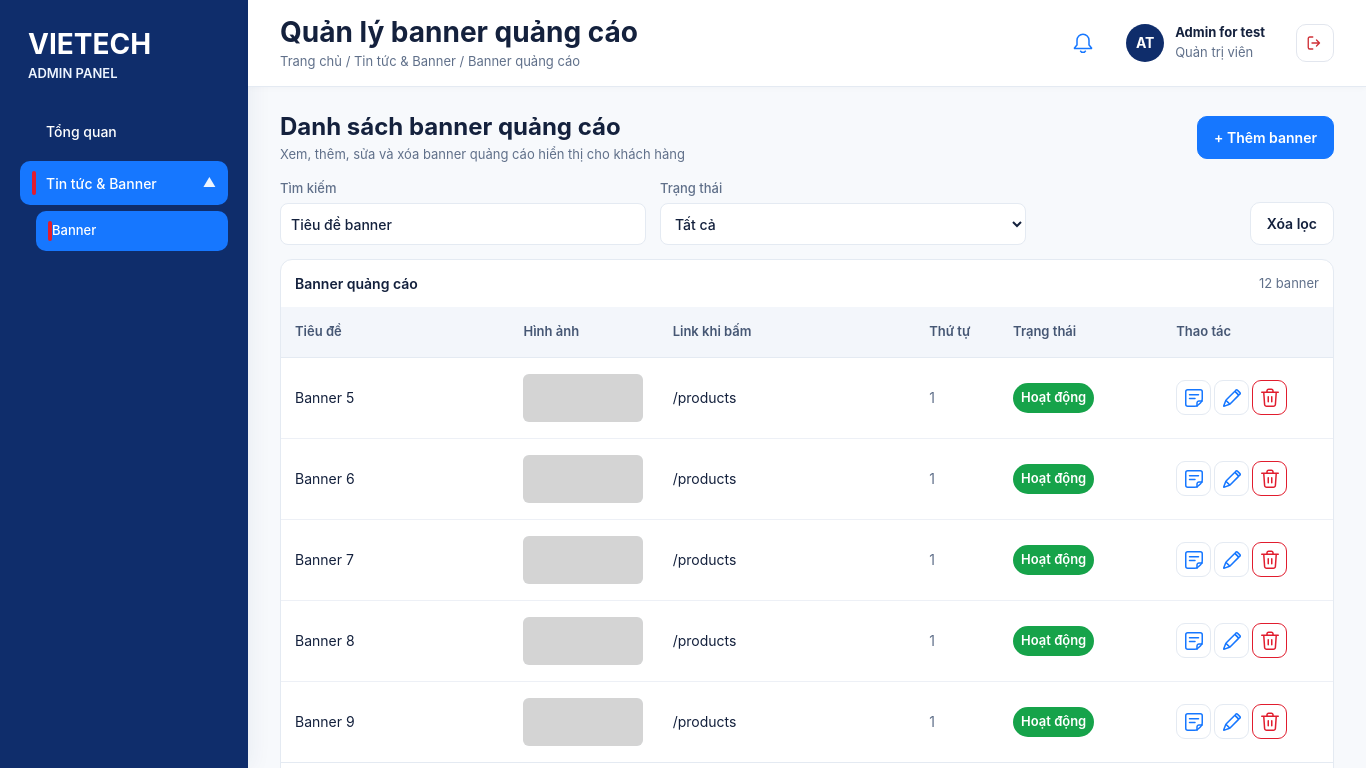
Test: search and status automatically filter the full array and reset pagination
Type "MỤC CẦN TÌM" into the search field at (463, 224), box [280, 203, 646, 245]
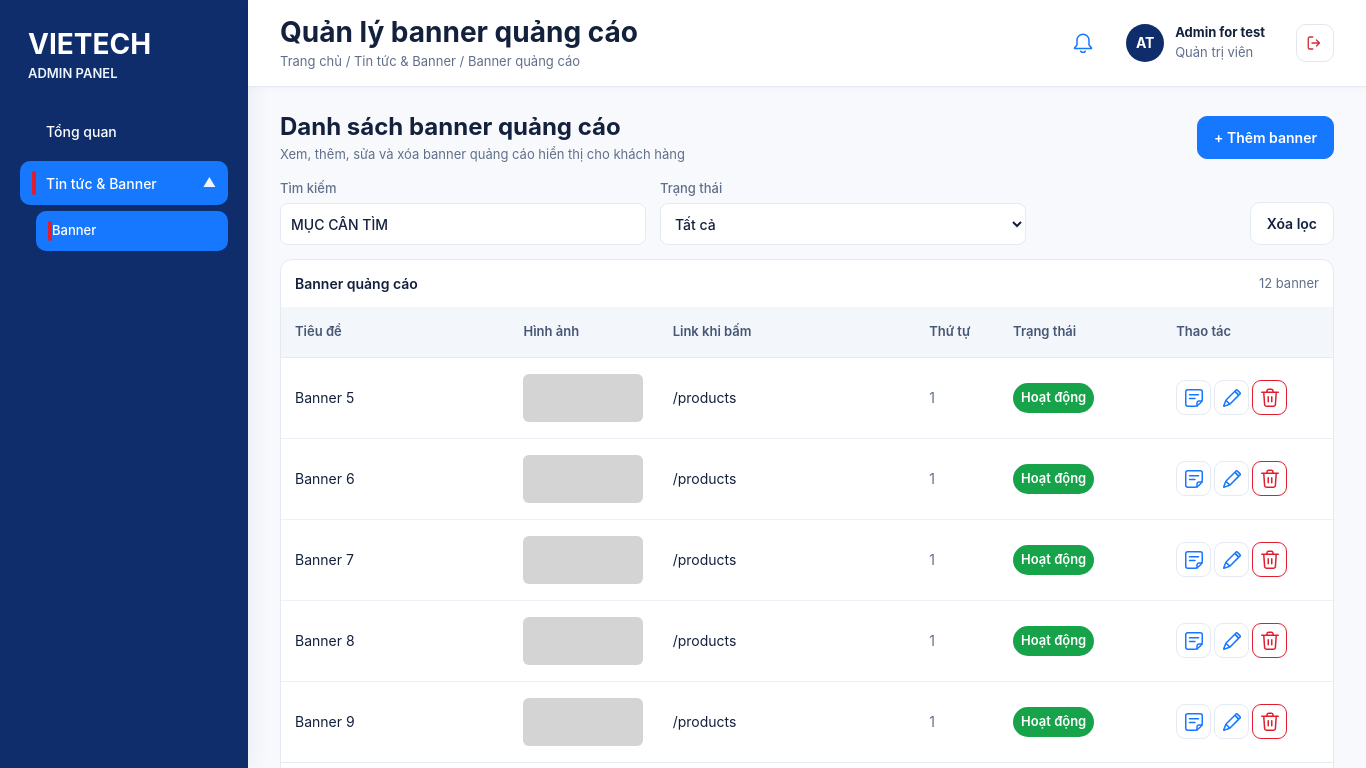
Select "Ngừng hoạt động" in the dropdown at (843, 224), box [660, 203, 1026, 245]
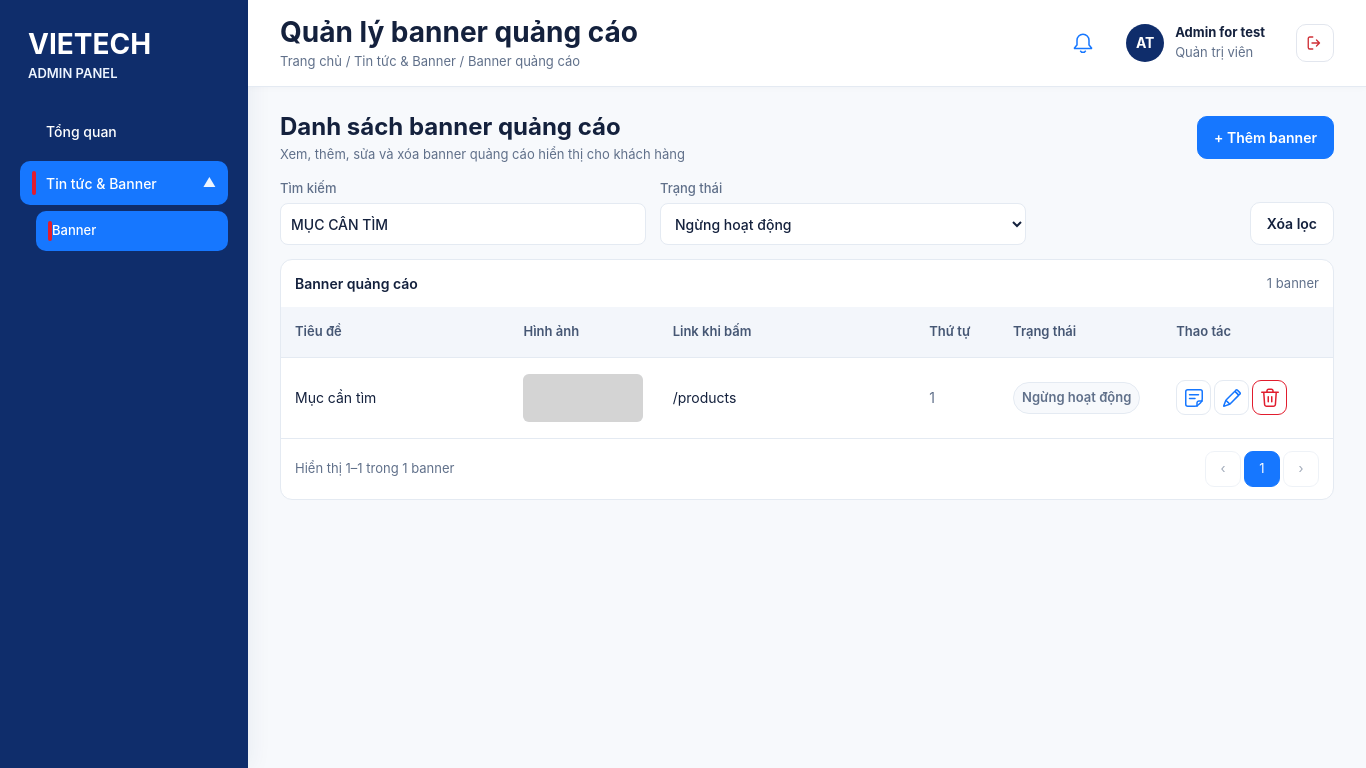
Expected: the button named "Xem Mục cần tìm" is shown, [1176, 380, 1211, 415]
Result: the text "Hiển thị 1–1 trong 1 banner" is shown at [295, 459, 454, 478]
Click the button "Xóa lọc" at (1292, 224), box [1250, 202, 1334, 245]
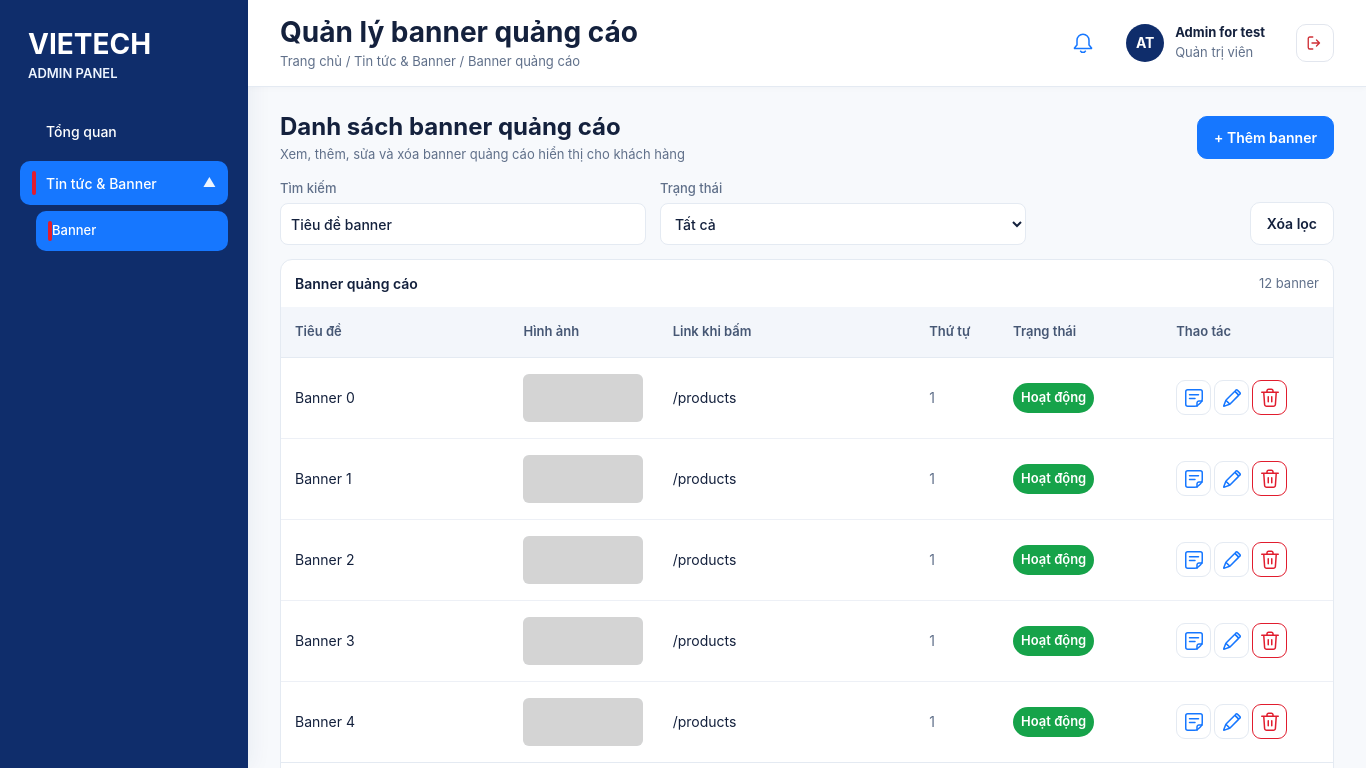
Result: the text "12 banner" is shown at [1259, 274, 1319, 294]
